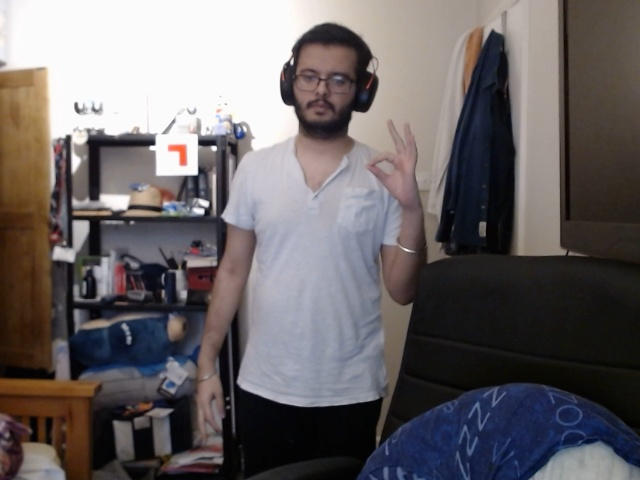Okay: (363, 114, 423, 214)
